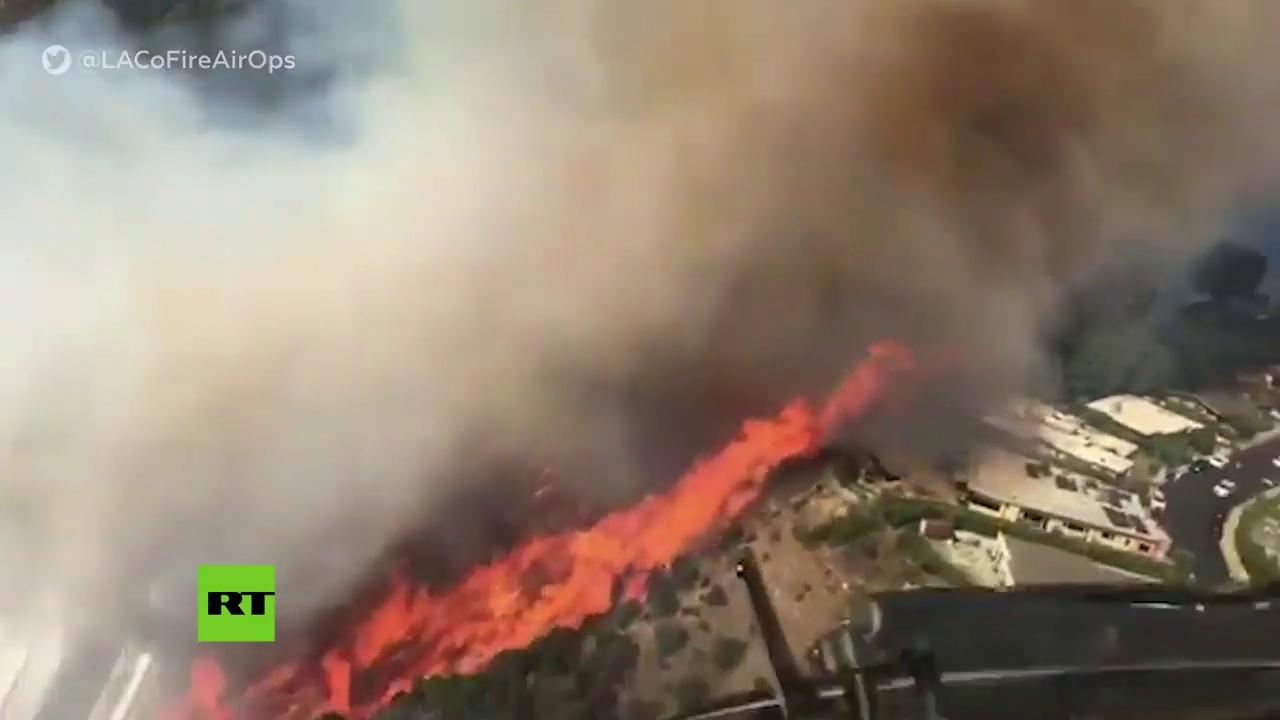fire: (466, 534, 612, 660), (358, 584, 450, 692), (728, 420, 796, 502), (628, 492, 702, 566), (824, 362, 878, 436)
smoke: (48, 168, 560, 464), (608, 12, 888, 330)
